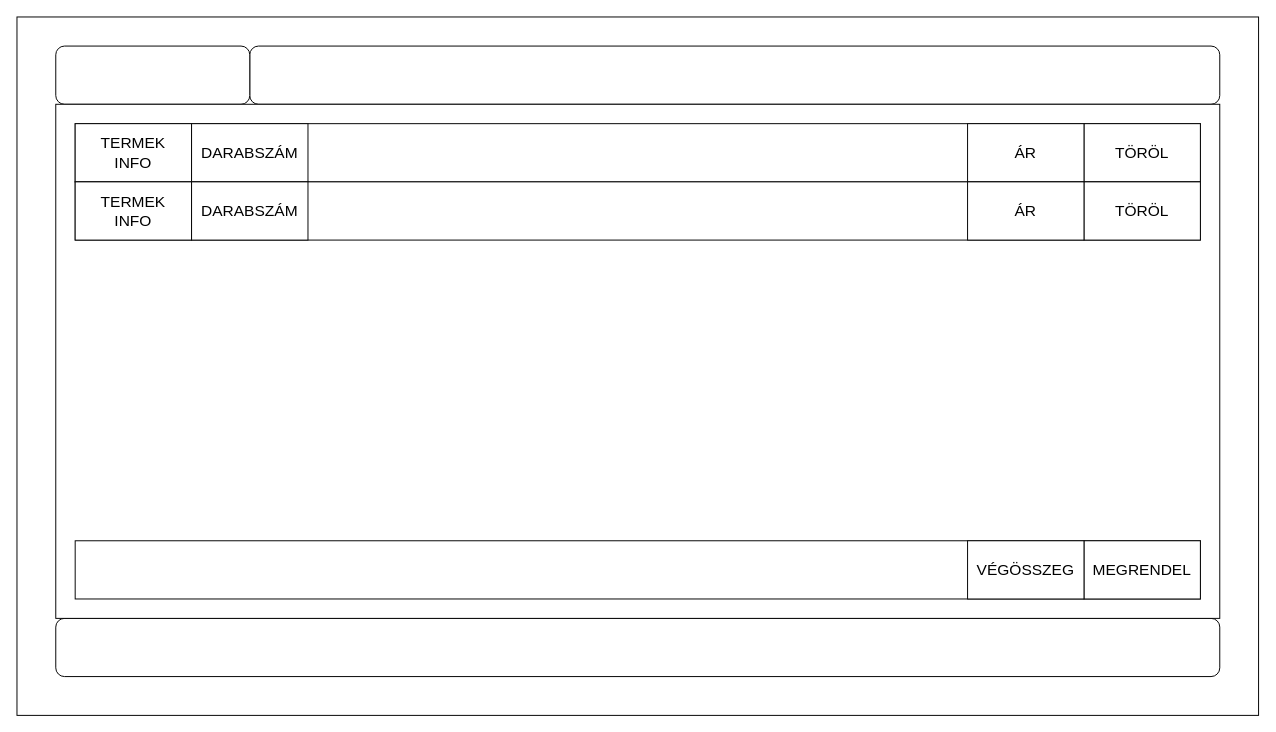
The diagram is 1276 pixels wide and 732 high, and some of its shapes have lost their labels. Here are the shapes that lost their labels. From the top down, the centre of each, then its label:
At point 152,74: "LOGÓ ÉS CÉGNÉV".
At point 734,74: "MENÜSÁV".
At point 637,647: "LÁBJEGYZET".
